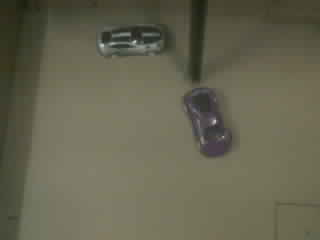Car: (183, 88, 231, 156), (98, 25, 163, 56)
